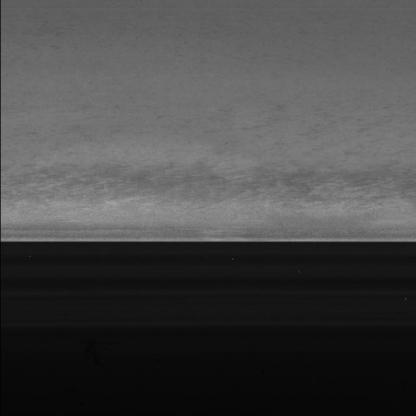silk_spot: (32, 157, 382, 206)
